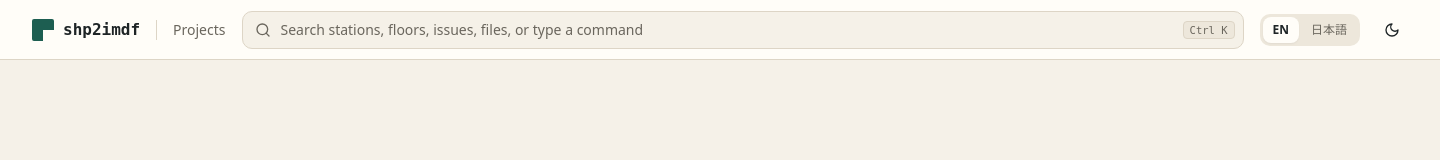
top bar › the language switch marks the current language and changes it
The image size is (1440, 160).
Click the button "日本語": (1329, 30) [1301,16,1357,42]
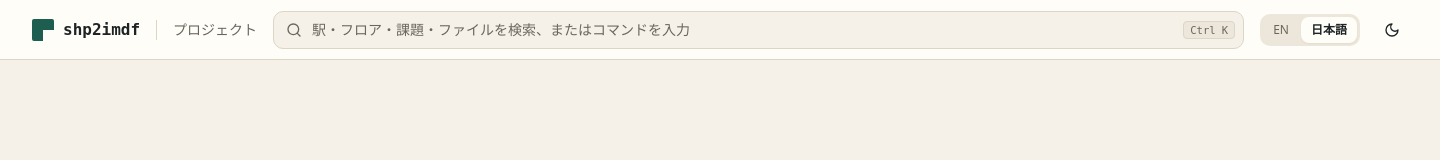
expect the element named "表示言語" is shown: met, box [1260,14,1360,46]
